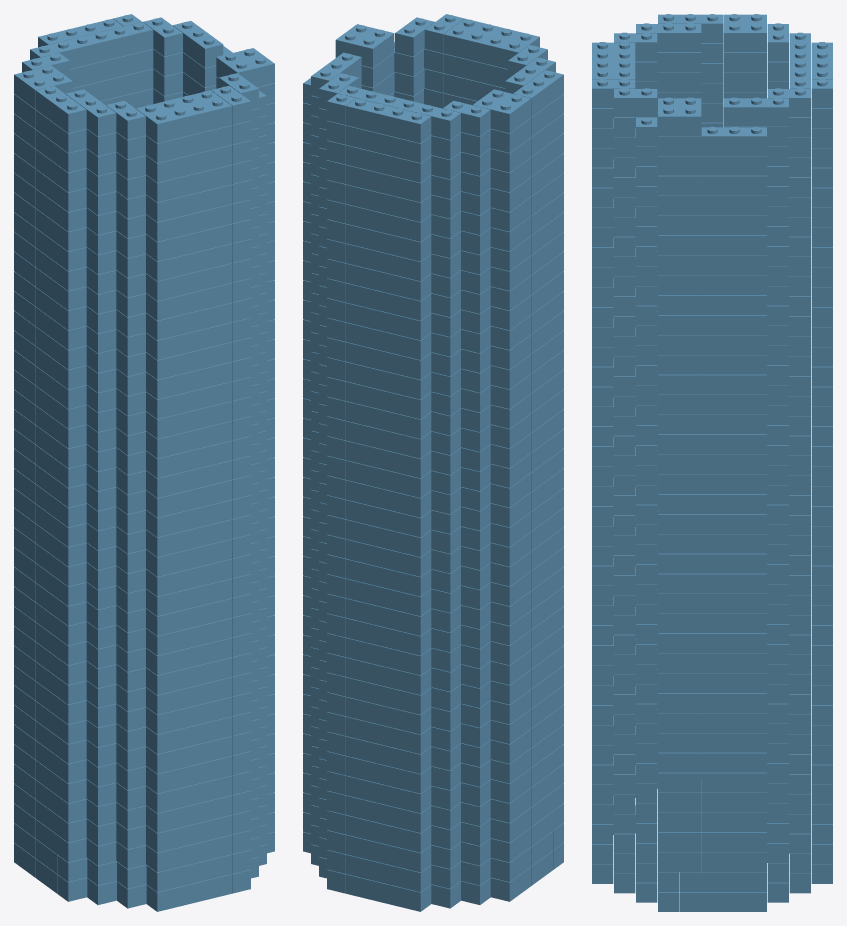
Rendered from 054_birdhouse_L4.glb.
3 views of the same model, side by side, from view 1: azimuth 30°, elevation 25°; view 2: azimuth 150°, elevation 25°; view 3: azimuth 270°, elevation 25° (orthographic).
Bounding box in the file's own units: 10.98 × 40.13 × 10.98.
